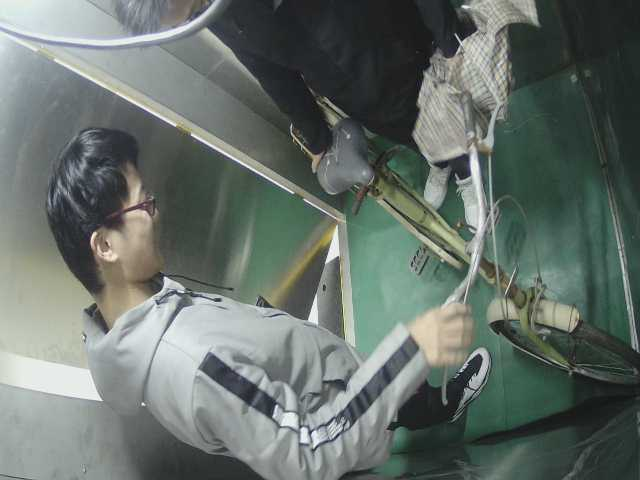bicycle: (312, 117, 627, 395)
person: (54, 133, 486, 473), (117, 1, 493, 235)
